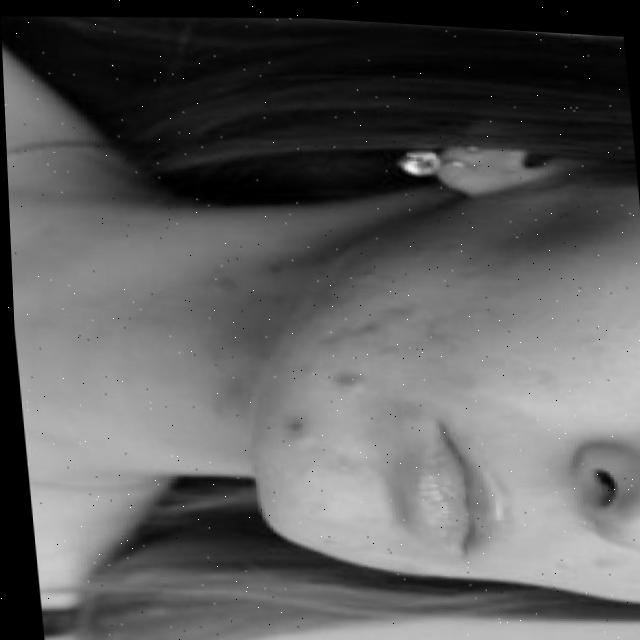Acne: (279, 282, 537, 452)
